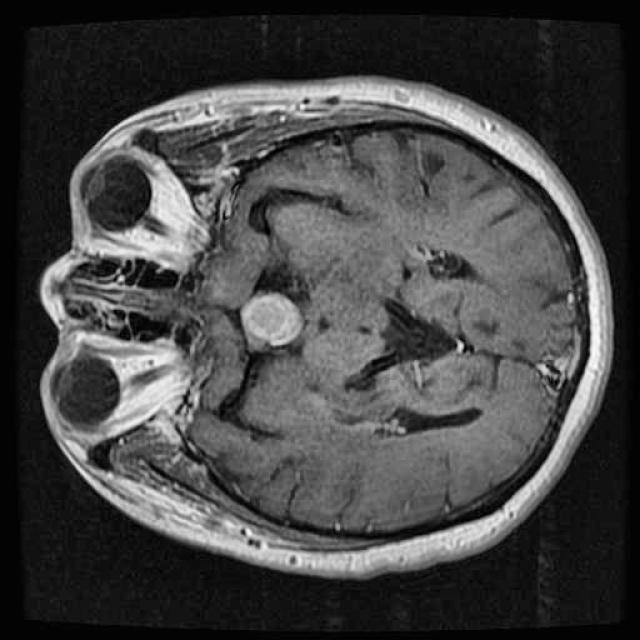Tumor: (234, 280, 315, 356)
